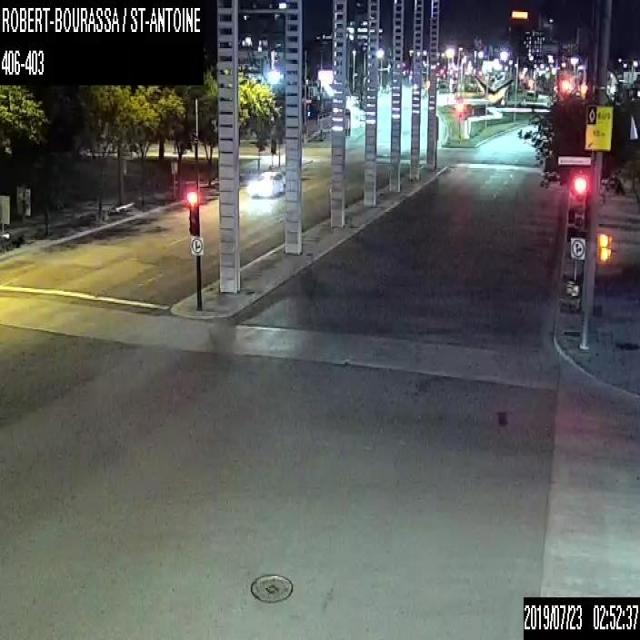vehicle: (247, 170, 285, 198)
